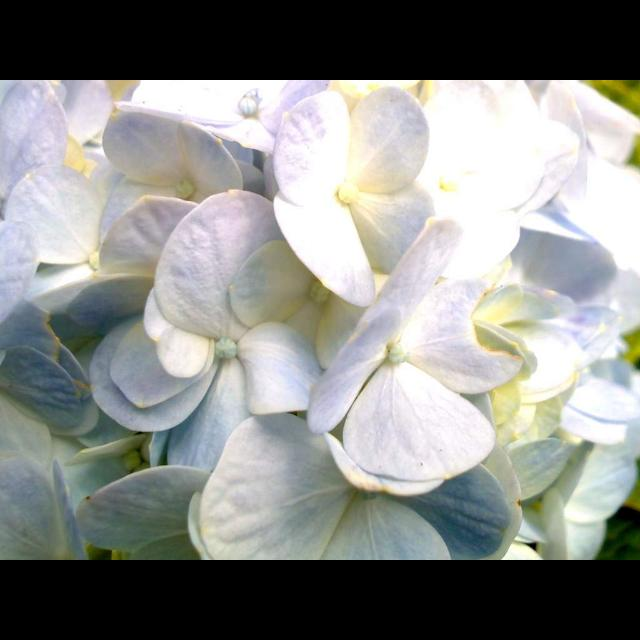Flower: (1, 80, 640, 560), (305, 255, 503, 501)
